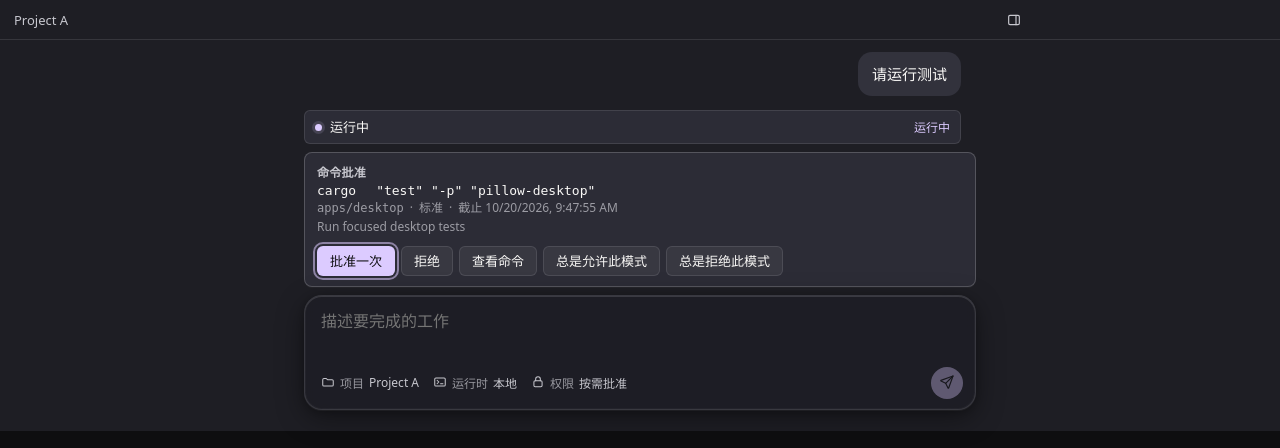
Test: C4 workbench process integration — decide and re-list › reject sends no grant and re-lists authoritatively
This screenshot has width=1280, height=448.
Step 1. Click the button with test id "command-approval-reject" → (427, 261), box [401,246,453,276]
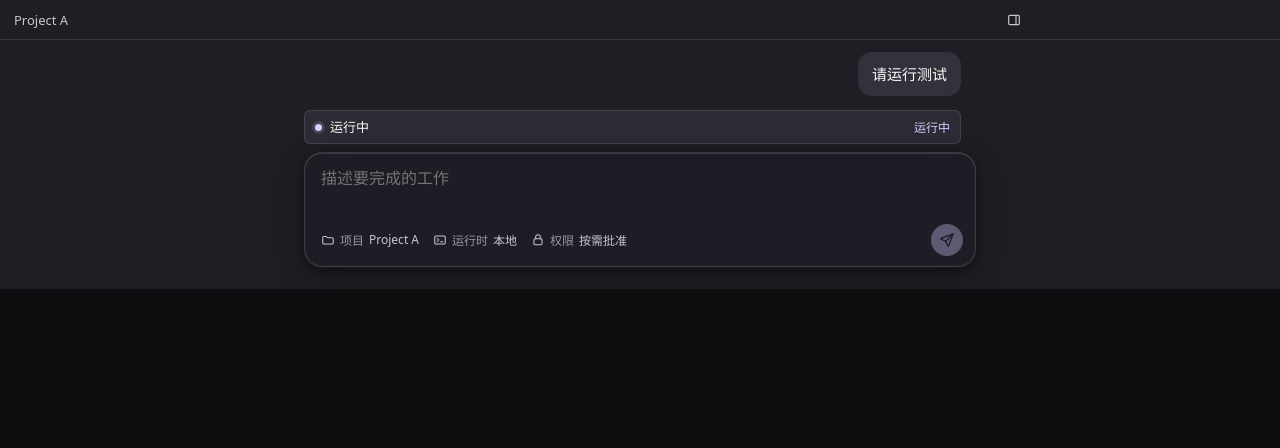
Expected: the element with test id "command-approval-bar" is gone
